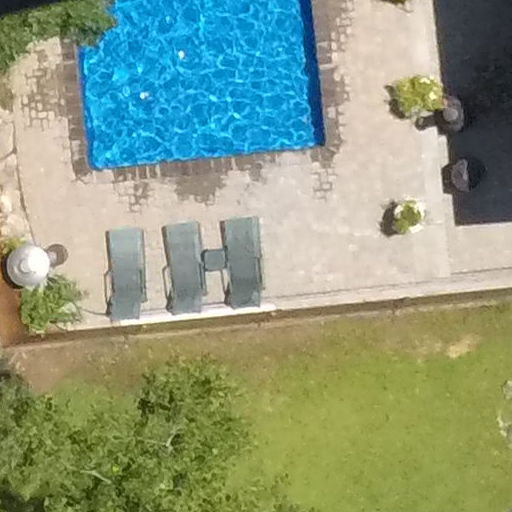flower pot: (380, 67, 445, 126), (380, 194, 430, 239)
pool: (44, 2, 353, 184)
